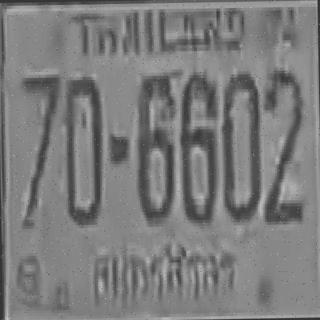N00: (220, 68, 260, 219), (62, 74, 101, 222)
N02: (262, 67, 304, 222)
N06: (178, 70, 218, 222), (134, 72, 174, 221)
N07: (19, 71, 62, 226)
P58: (85, 237, 240, 320)
